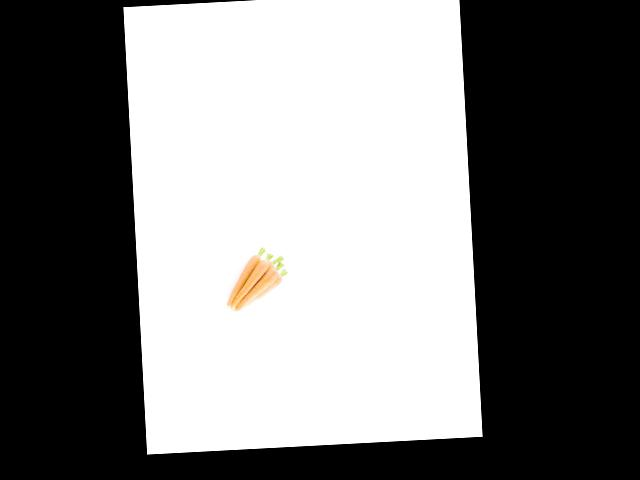carrot: (219, 251, 262, 305)
